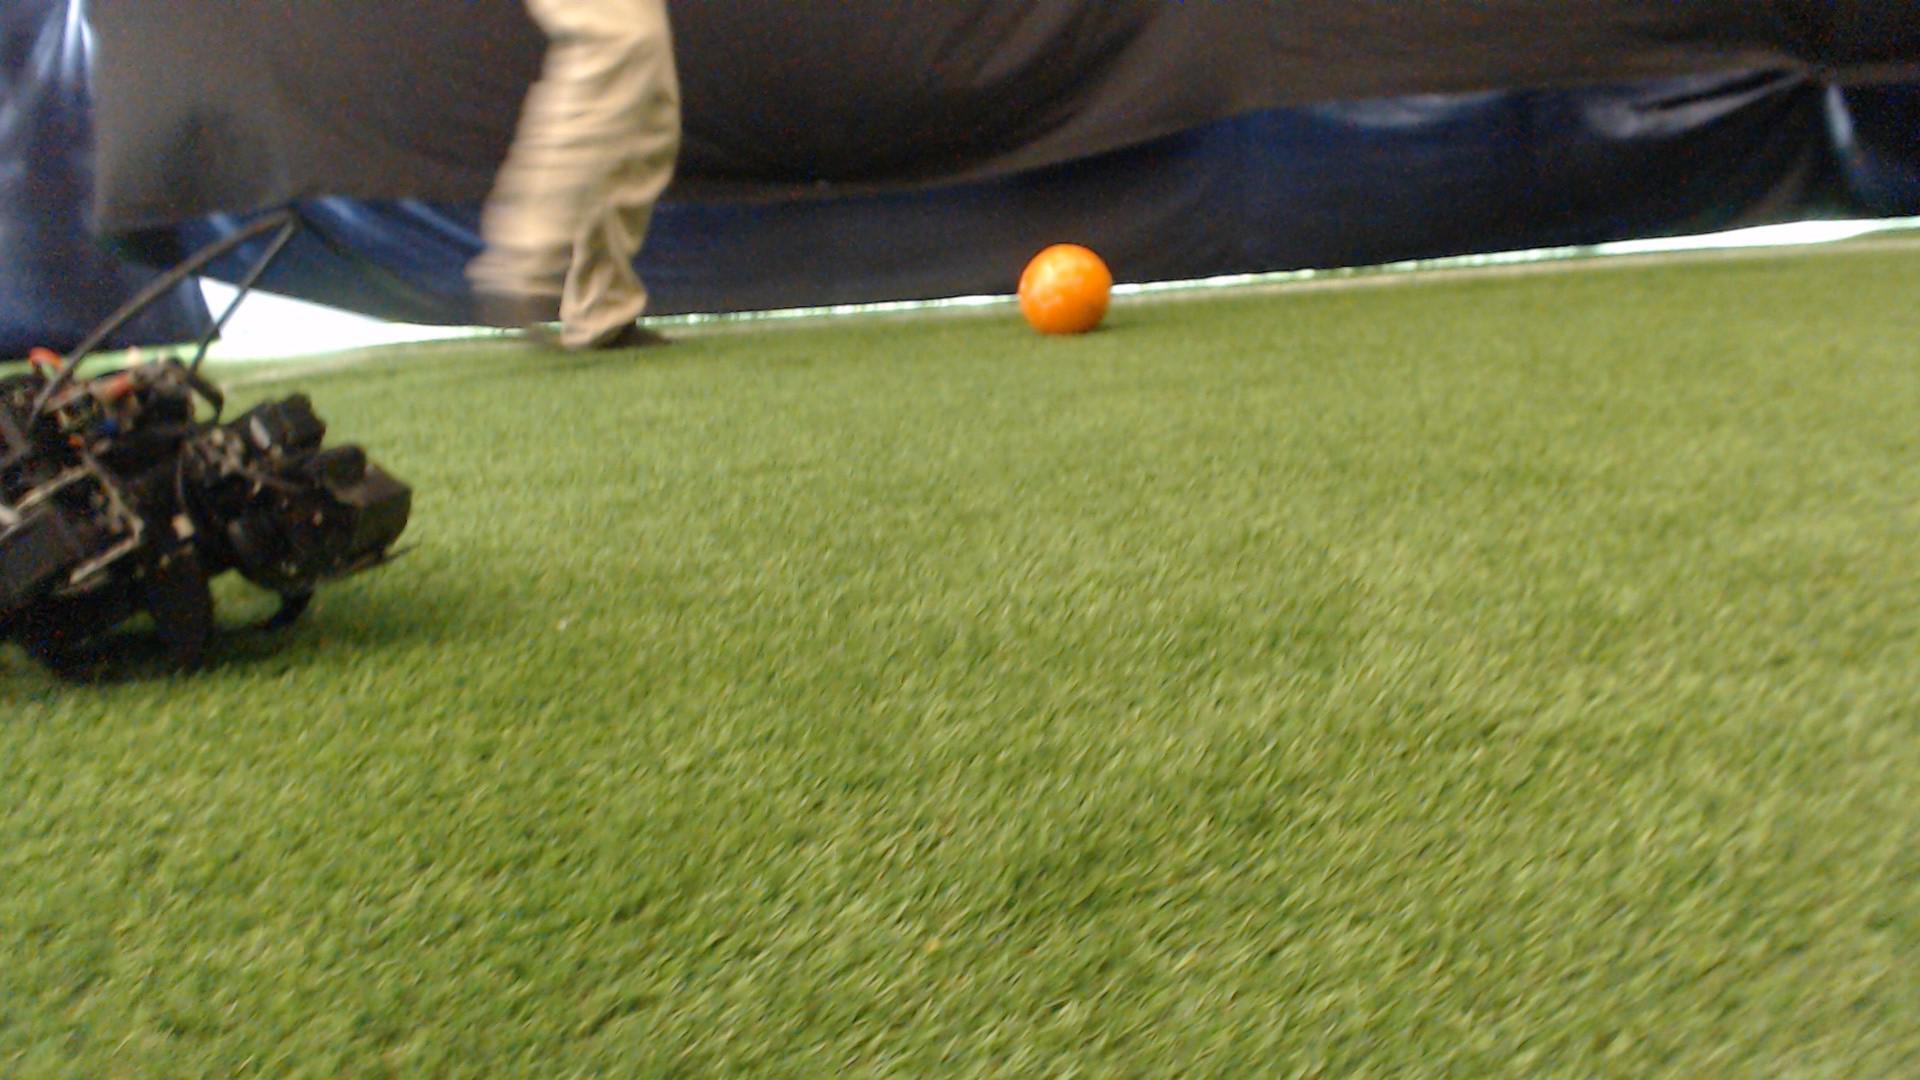bola: (1014, 228, 1127, 339)
